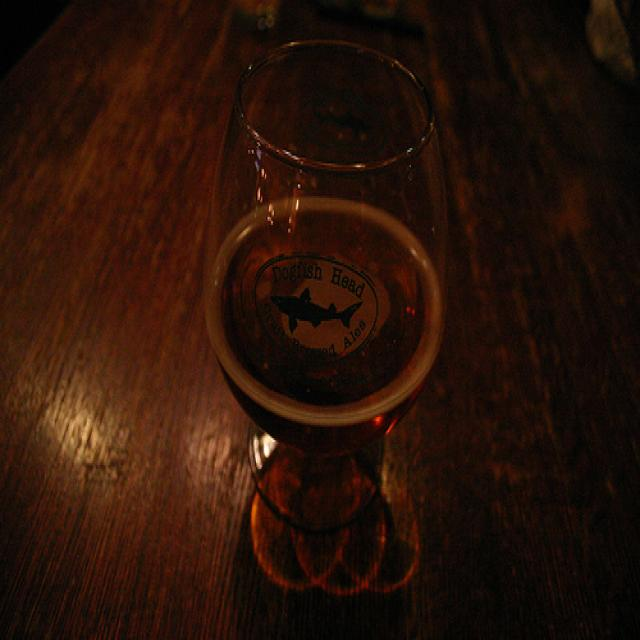Cup: (228, 14, 465, 585)
Table: (11, 0, 621, 614)
